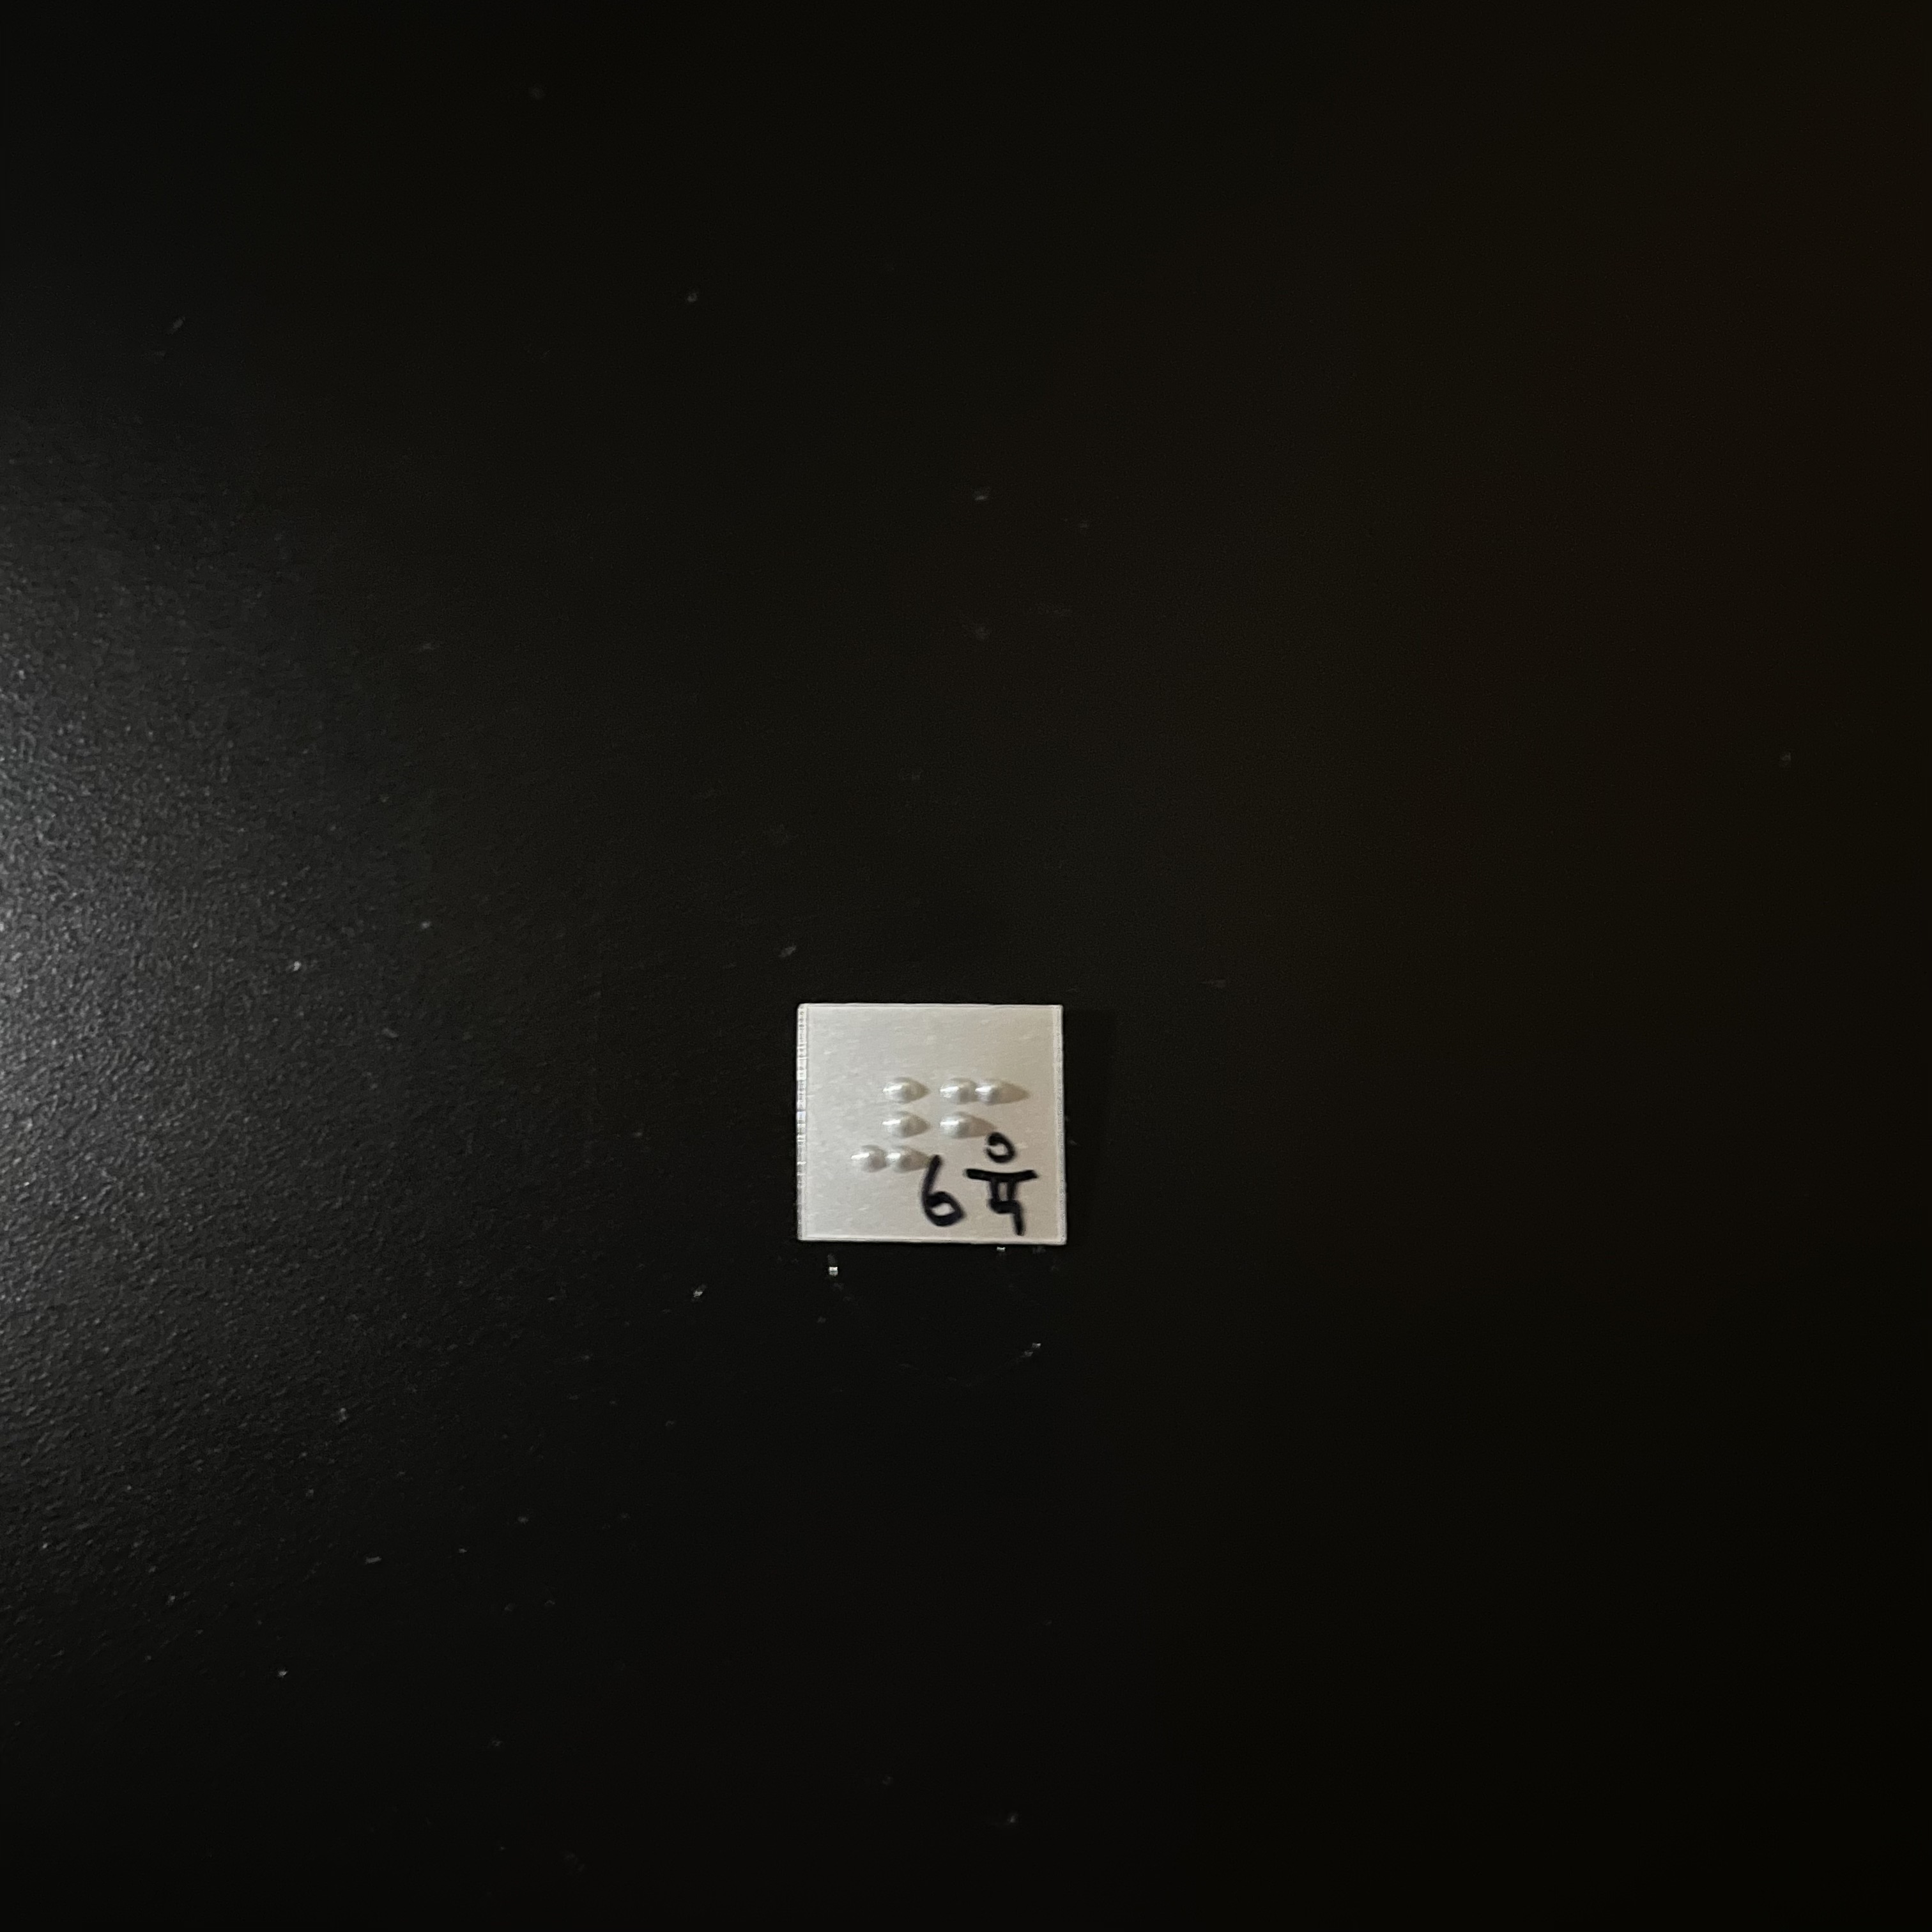#: (853, 1073, 935, 1181)
f: (939, 1073, 1025, 1183)
